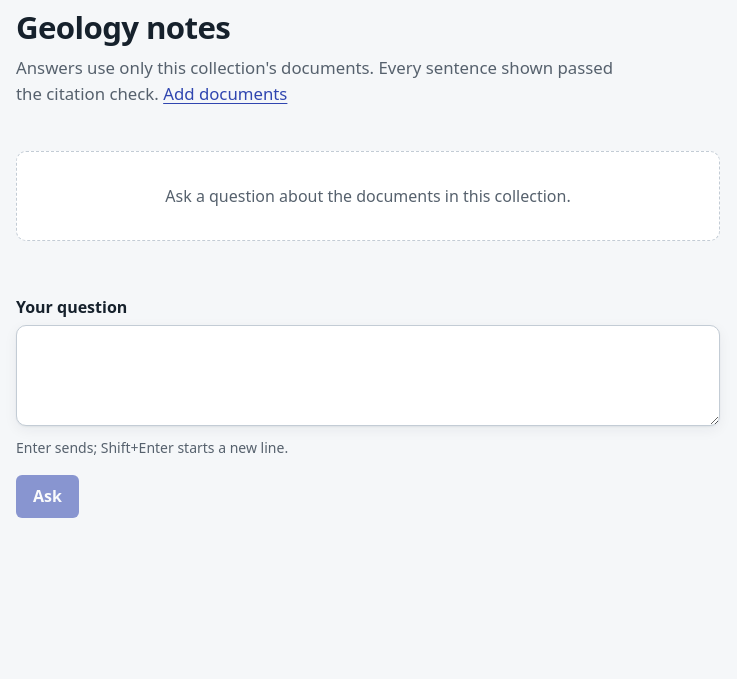
Scenario: the chat page appends a sentence event's text to the answer
Type "What is attention?" into the text box labelled "Your question". click: {"x": 368, "y": 376}
box: [16, 325, 720, 426]
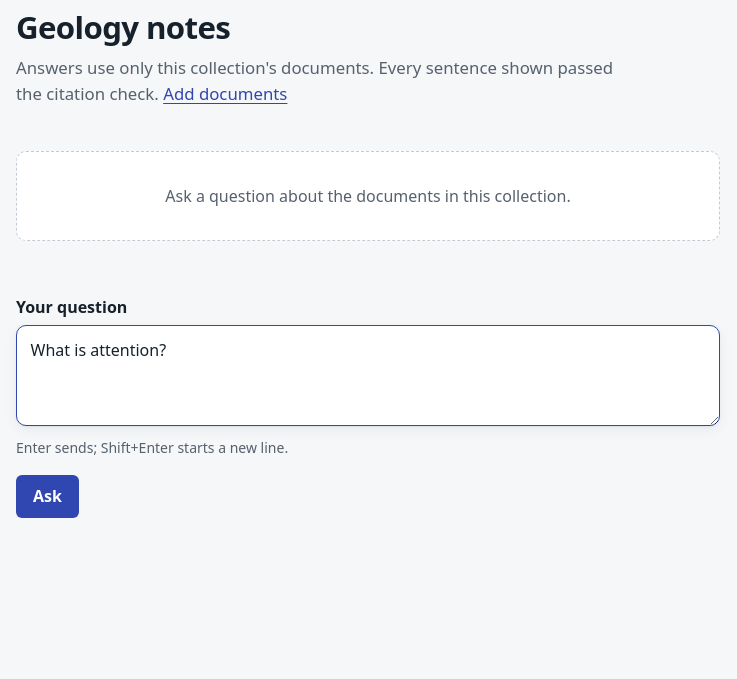
Press Enter
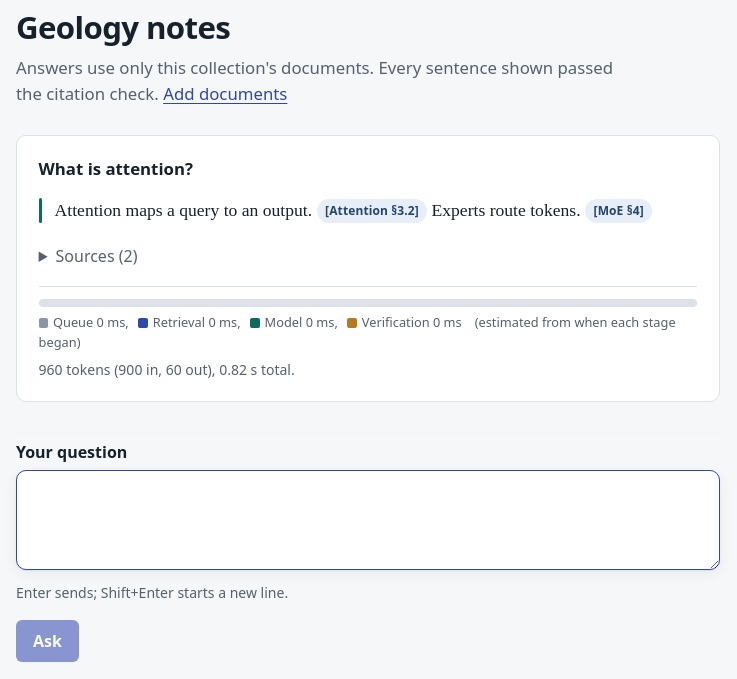
Result: the element named "Answer" shows "Experts route tokens" at [432, 200, 580, 220]
Result: the element named "Answer" shows "Attention maps a query to an output" at [55, 200, 312, 220]
Result: the text "960 tokens (900 in, 60 out), 0.82 s total." is shown at [39, 360, 295, 379]
